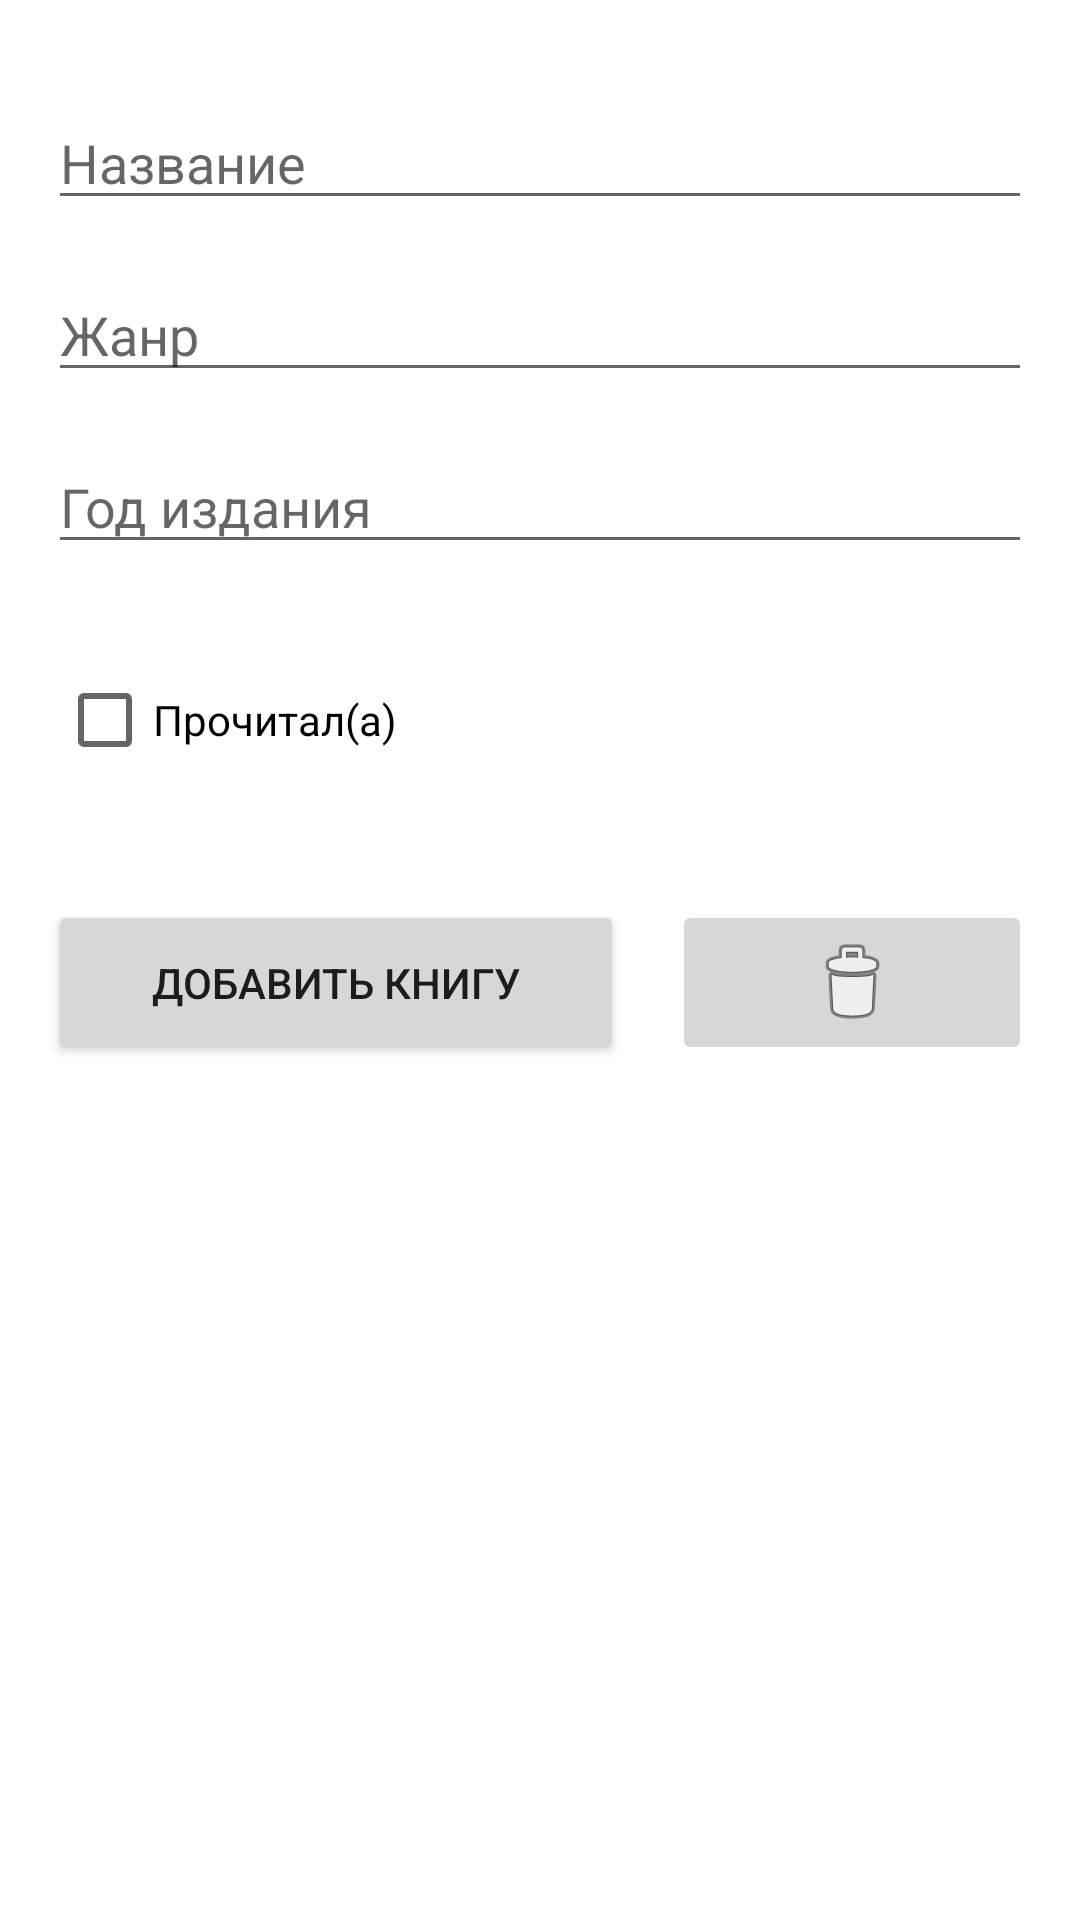

Where icons sit on this 1080 x 1920 app screen, as (x1, y1, x2, y2):
delete: (684, 918, 1020, 1047)
